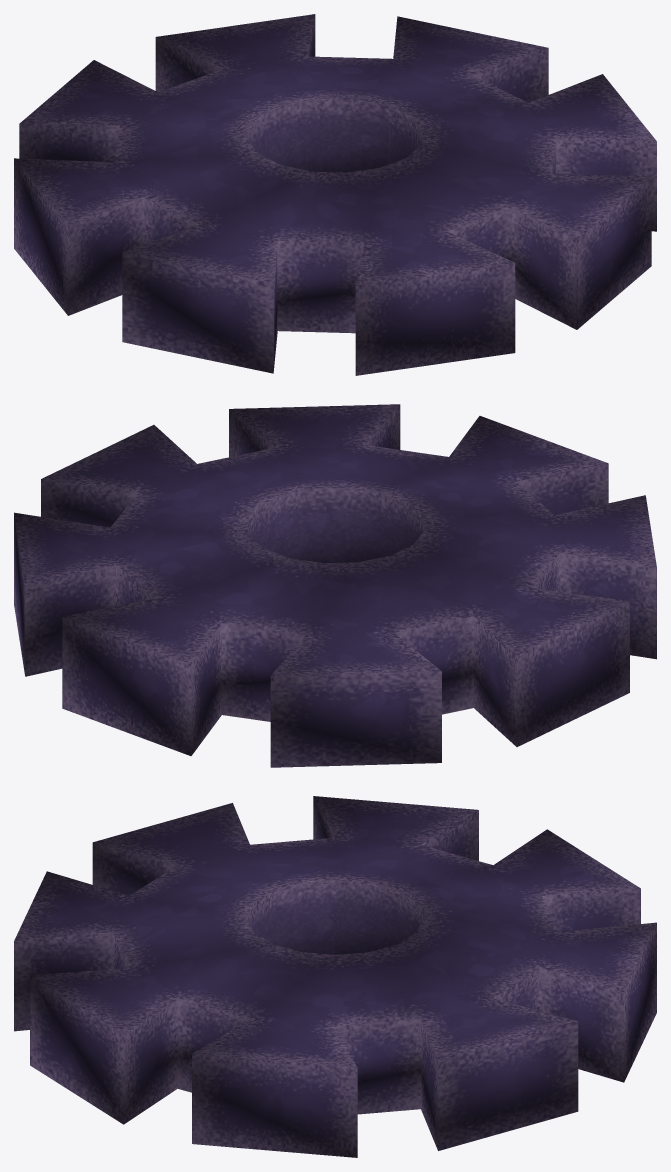
File: gear.glb
3 views of the same model, one above another, from view 1: azimuth 30°, elevation 25°; view 2: azimuth 150°, elevation 25°; view 3: azimuth 270°, elevation 25° (orthographic).
Parts seen in each view (by area): view 1: Gear; view 2: Gear; view 3: Gear.
Boxes of the visible parts, <box> form: Gear: <box>14,14,656,375</box>; Gear: <box>14,404,656,767</box>; Gear: <box>14,796,656,1157</box>.
Size of the model in its own units: 1.98 by 0.4037 by 1.98.
Materials: 1 (1 with a texture image).
